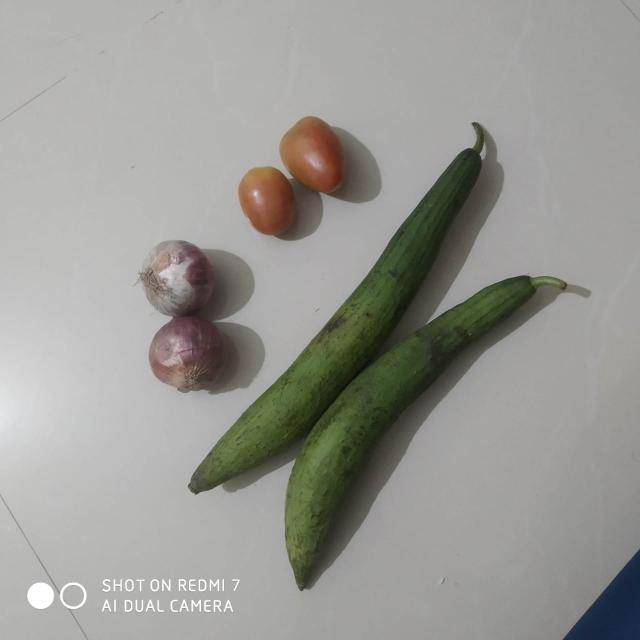Organik: (250, 257, 601, 605), (137, 235, 217, 318), (149, 315, 228, 399), (279, 113, 348, 197), (236, 165, 296, 239)
